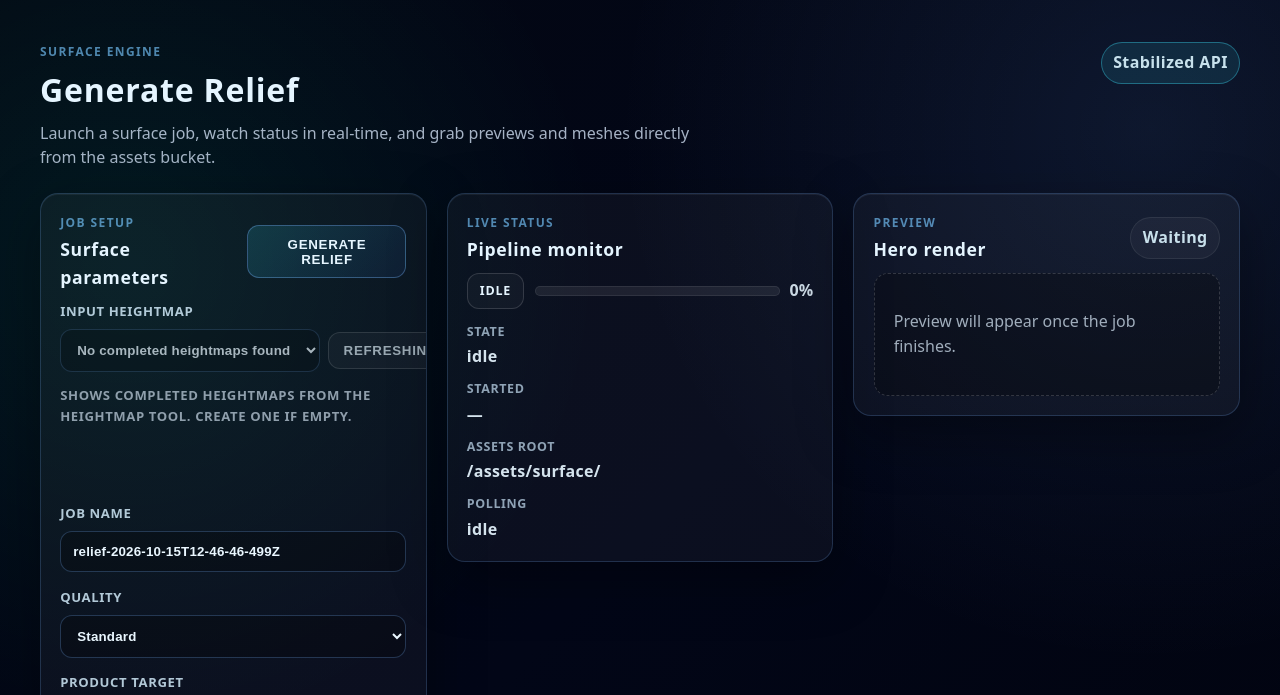
Test: SurfacePage heightmap integration › shows error when no completed heightmap is available
Click the button "Generate Relief" at (327, 252), box [247,226,406,278]
(page scrolled)
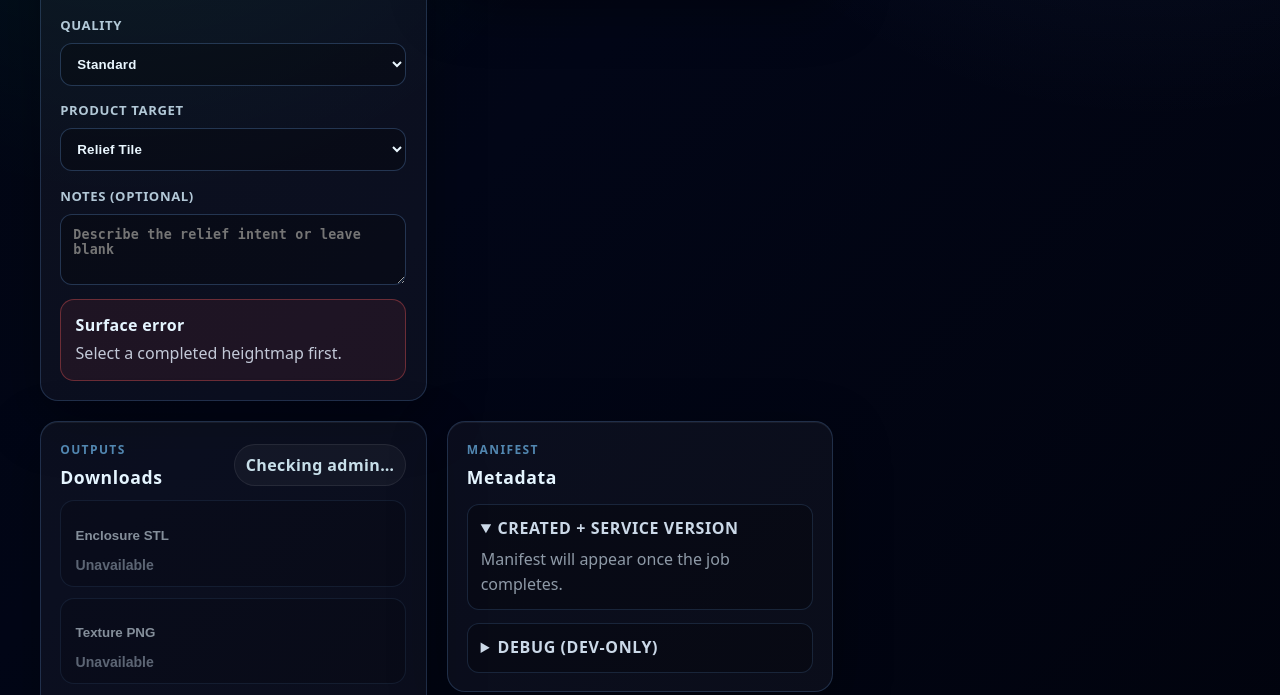
Check: the text "Select a completed heightmap first." is shown, box [76,341,342,367]
